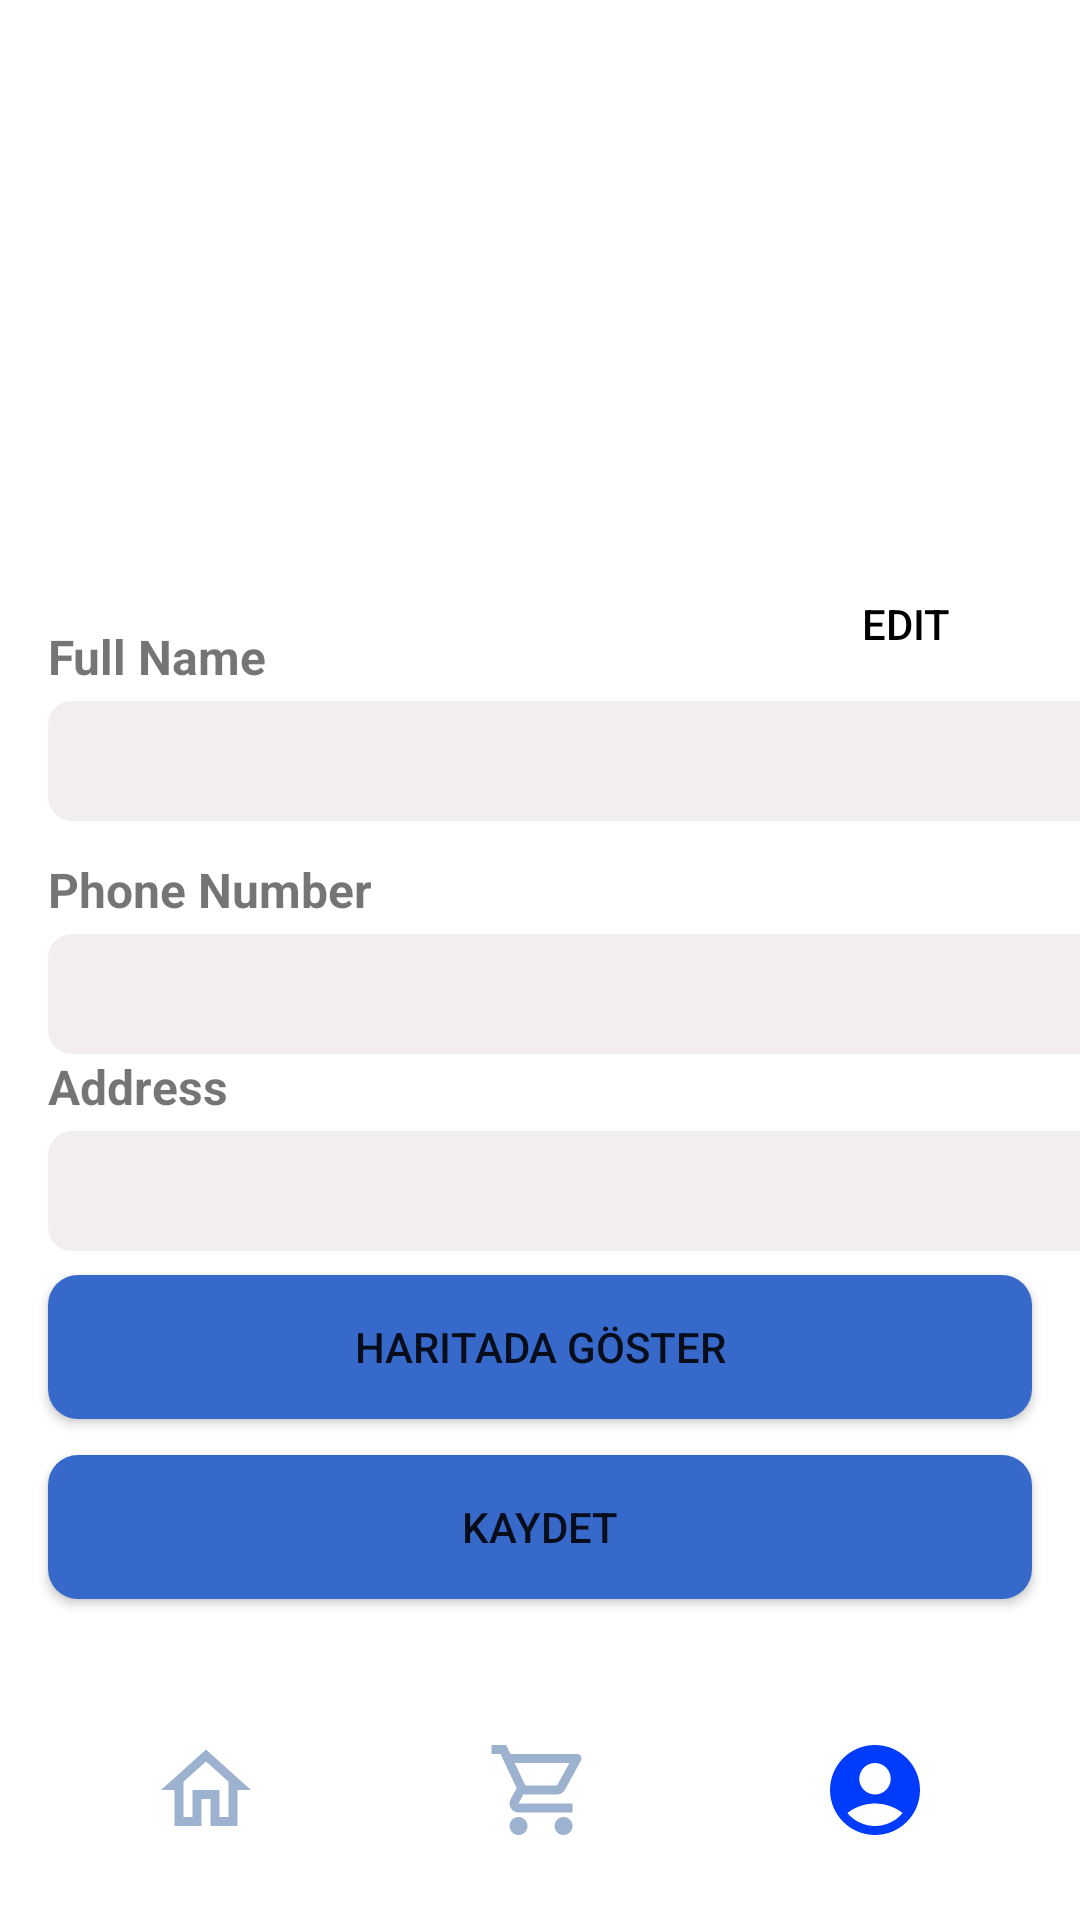

Icons on this 1080px x 1920px Android screen, each with the point to tap as point (x, y):
home: point (206, 1788)
profile: point (875, 1790)
shopping cart: point (536, 1790)
